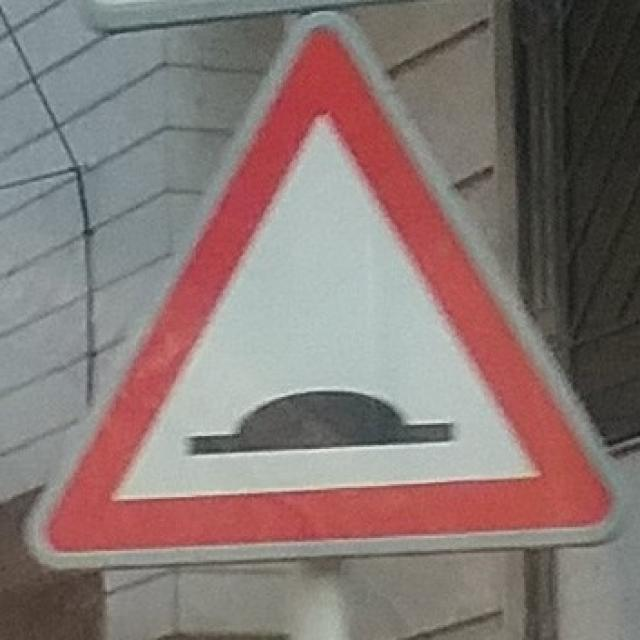HUMP_OR_ROUGH_ROAD: (24, 17, 626, 571)
